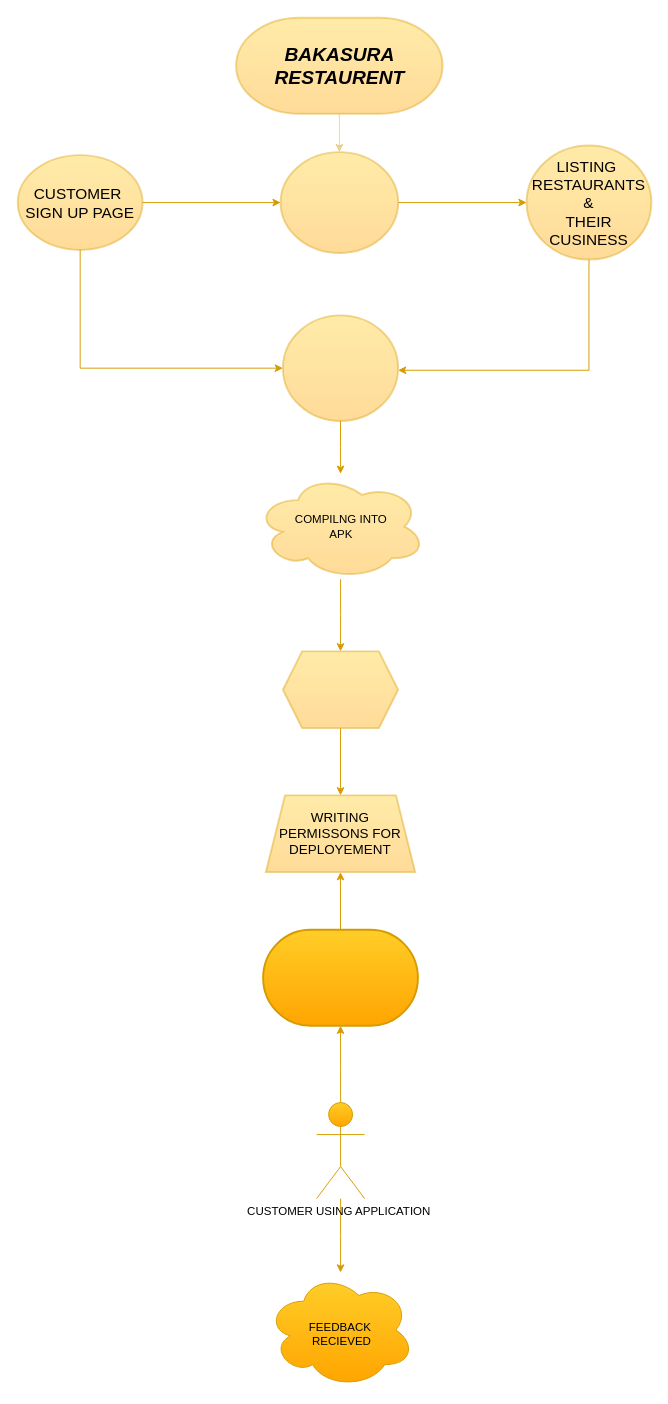
This 668x1404 diagram has some shape labels left out. Here are the shapes that lost their labels. From the top down, the box of each, then its label:
(279, 151, 399, 253): DESIGN UI/UX
(281, 314, 399, 421): CHECKOUT PAGE &RTS
(281, 650, 399, 729): NO BUG FOUND
(262, 928, 418, 1026): PUSHING APK TO CLOUD/APP STORE
